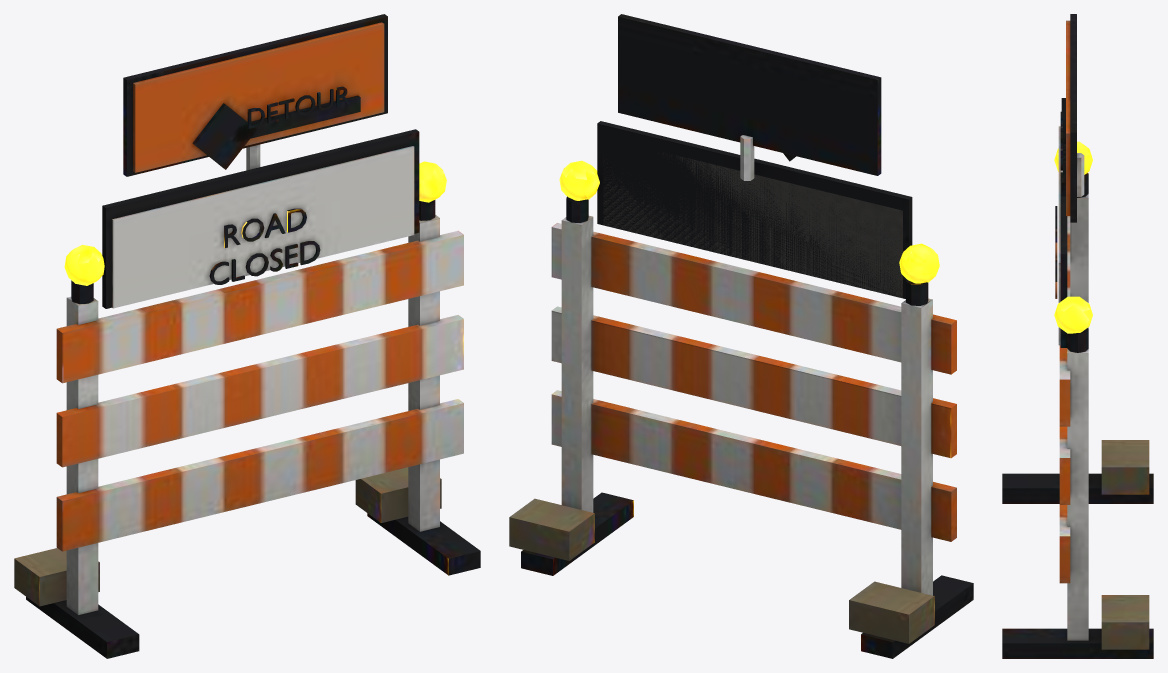
The model's file is corte_izq.glb.
3 renders of one model, left to right at view 1: azimuth 30°, elevation 25°; view 2: azimuth 150°, elevation 25°; view 3: azimuth 270°, elevation 25°, orthographic. The views are drawn at different scales.
Parts seen in each view (by area): view 1: corte_izq; view 2: corte_izq; view 3: corte_izq.
Part boxes in pixels (<box>): corte_izq: <box>14,14,480,658</box>; corte_izq: <box>509,14,973,658</box>; corte_izq: <box>1002,14,1153,658</box>.
Size of the model in its own units: 2 by 2.56 by 0.7.
Materials: 1 (1 with a texture image).
